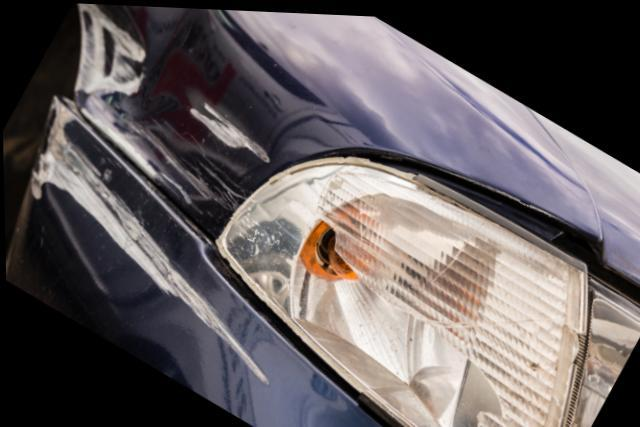dent: (71, 3, 265, 208)
dislocated part: (356, 142, 601, 276)
lamp broken: (211, 147, 588, 427)
scratch: (28, 98, 271, 382)
